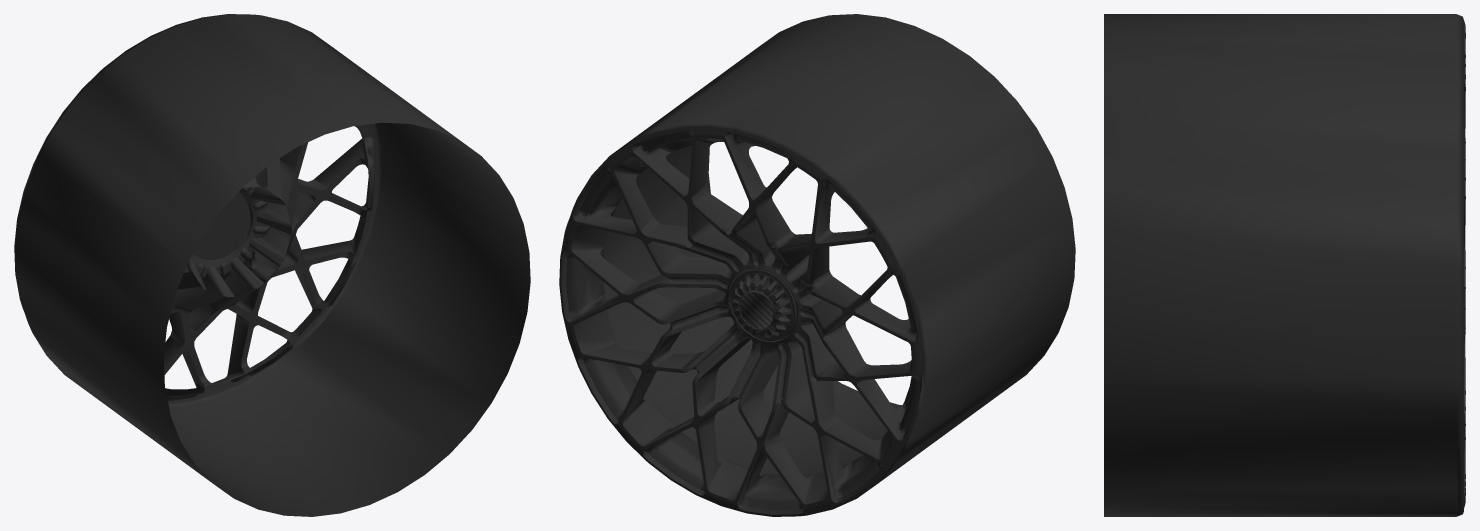
Rendered from LamboWheels.gltf.
3 renders of one model, left to right at view 1: azimuth 30°, elevation 25°; view 2: azimuth 150°, elevation 25°; view 3: azimuth 270°, elevation 25°, orthographic. The views are drawn at different scales.
Visible parts, largest first — view 1: wheels3_1; view 2: wheels3_1; view 3: wheels3_1.
Boxes of the visible parts, left/top/right/bottom form: wheels3_1: left=14, top=14, right=530, bottom=516; wheels3_1: left=559, top=14, right=1075, bottom=516; wheels3_1: left=1104, top=14, right=1465, bottom=516.
Size of the model in its own units: 2.72 by 2.72 by 1.96.
Materials: 2 (1 with a texture image).
